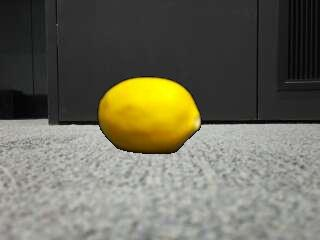lemon: (100, 77, 201, 152)
